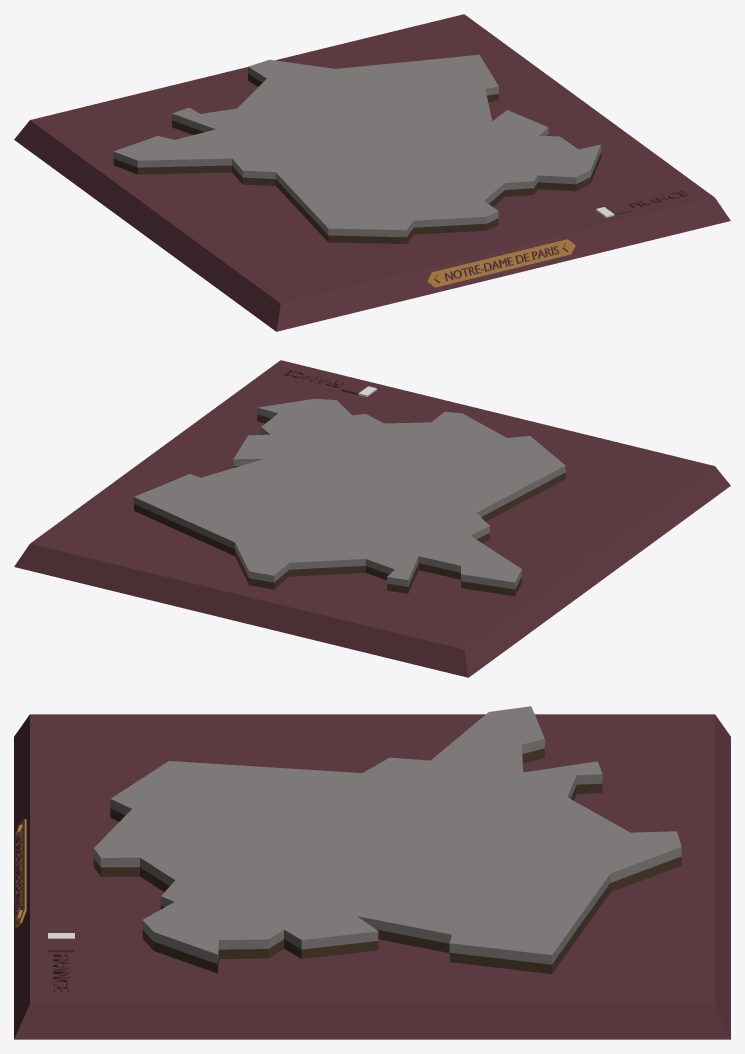
Rendered from SM_Island_Cathedral_NotreDame_Landmark.fbx.
3 renders of one model, top to bottom at view 1: azimuth 30°, elevation 25°; view 2: azimuth 150°, elevation 25°; view 3: azimuth 270°, elevation 25°, orthographic. The views are drawn at different scales.
Visible parts, largest first — view 1: Island_Cathedral_NotreDame_Landmark; view 2: Island_Cathedral_NotreDame_Landmark; view 3: Island_Cathedral_NotreDame_Landmark.
Boxes of the visible parts, x1,y1,x2,y2 form: Island_Cathedral_NotreDame_Landmark: (14, 14, 730, 331); Island_Cathedral_NotreDame_Landmark: (14, 360, 730, 677); Island_Cathedral_NotreDame_Landmark: (14, 706, 730, 1039).
Bounding box in the file's own units: 68.5 × 5.09 × 68.5.
